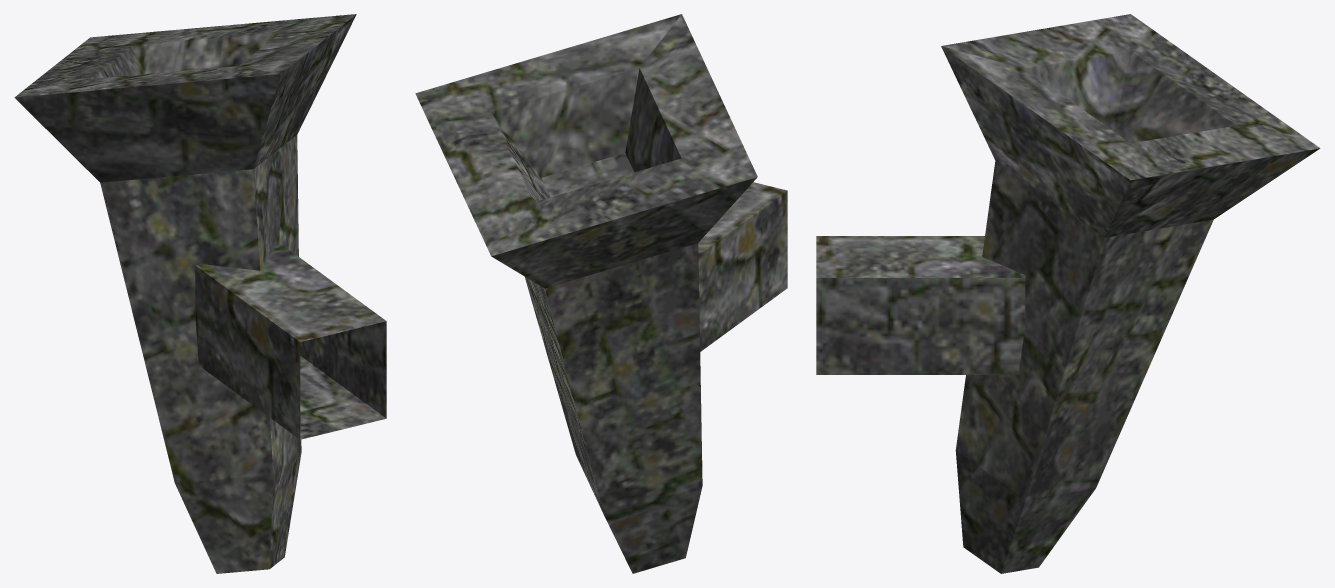
File: TorchModel.fbx
3 renders of one model, left to right at view 1: azimuth 30°, elevation 25°; view 2: azimuth 150°, elevation 25°; view 3: azimuth 270°, elevation 25°, orthographic.
Parts seen in each view (by area): view 1: Torch; view 2: Torch; view 3: Torch.
Boxes of the visible parts, x1=… form: Torch: x1=14, y1=14, x2=386, y2=573; Torch: x1=415, y1=14, x2=787, y2=573; Torch: x1=816, y1=14, x2=1320, y2=573.
Bounding box in the file's own units: 0.6114 × 0.8934 × 0.7828.
